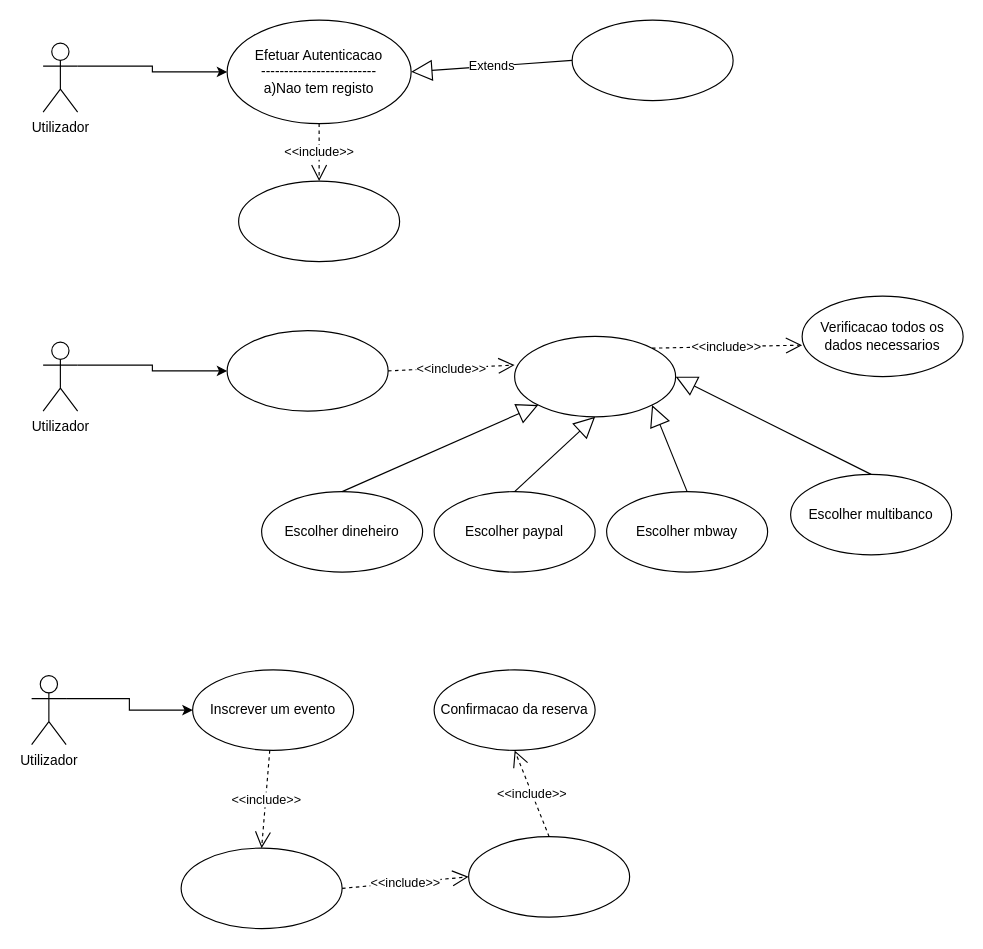
Some shapes in this 983 by 949 pixel diagram are drawn without their labels. The centre of each missing label's shape, as x and y in pixels:
Escolher metodo: (x=594, y=376)
Introduzir username e password: (x=318, y=221)
Pagar coima: (x=307, y=370)
Registar utilizador: (x=652, y=60)
Verificar eventos disponiveis: (x=261, y=888)
Verificar lugares disponiveis: (x=548, y=876)
